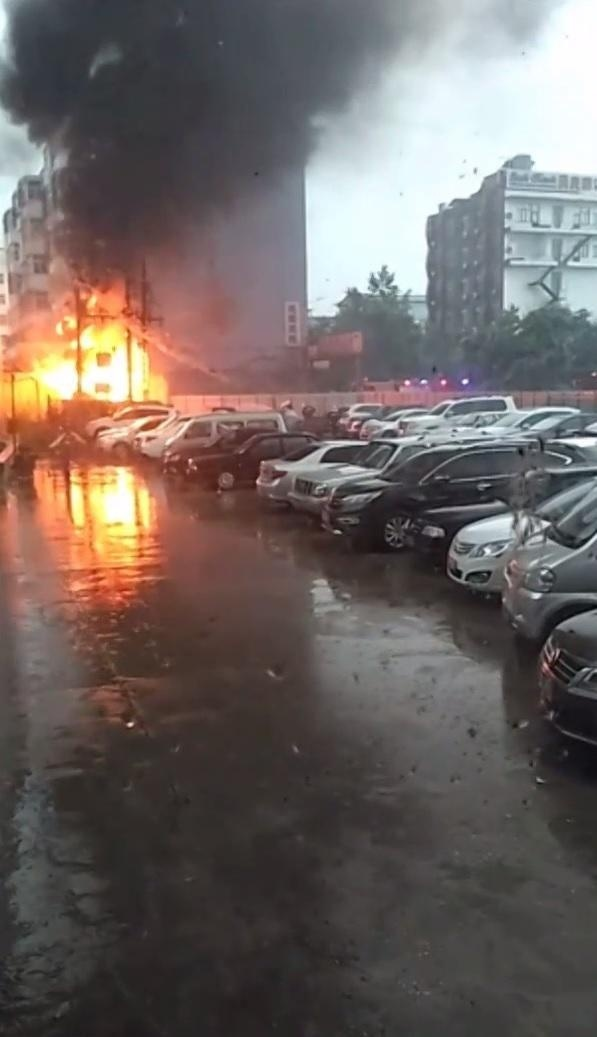fire: (32, 292, 159, 406)
